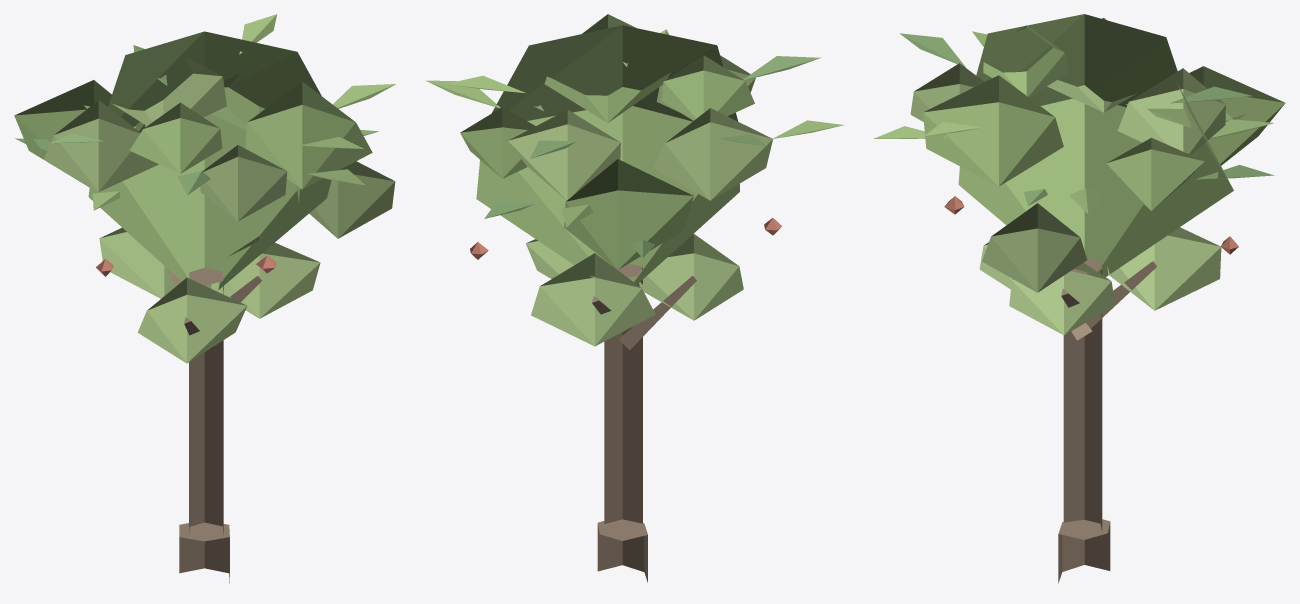
Rendered from shu.yinxing__spring.glb.
3 renders of one model, left to right at view 1: azimuth 30°, elevation 25°; view 2: azimuth 150°, elevation 25°; view 3: azimuth 270°, elevation 25°, orthographic. The views are drawn at different scales.
Parts seen in each view (by area): view 1: shu.yinxing__spring; view 2: shu.yinxing__spring; view 3: shu.yinxing__spring.
Boxes of the visible parts, box(x1,y1,x2,y2) form: shu.yinxing__spring: box(14, 14, 395, 583); shu.yinxing__spring: box(426, 14, 843, 582); shu.yinxing__spring: box(873, 14, 1285, 583).
Size of the model in its own units: 9.93 by 14.35 by 9.57.
